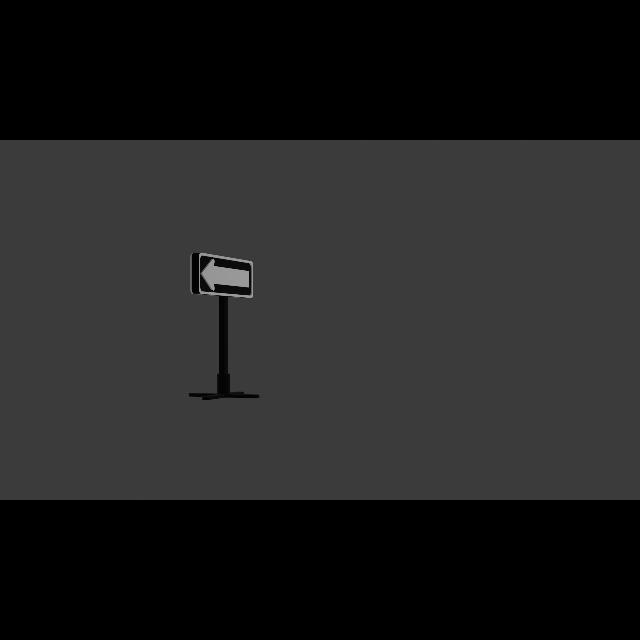sign_oneway_left: (190, 252, 257, 301)
